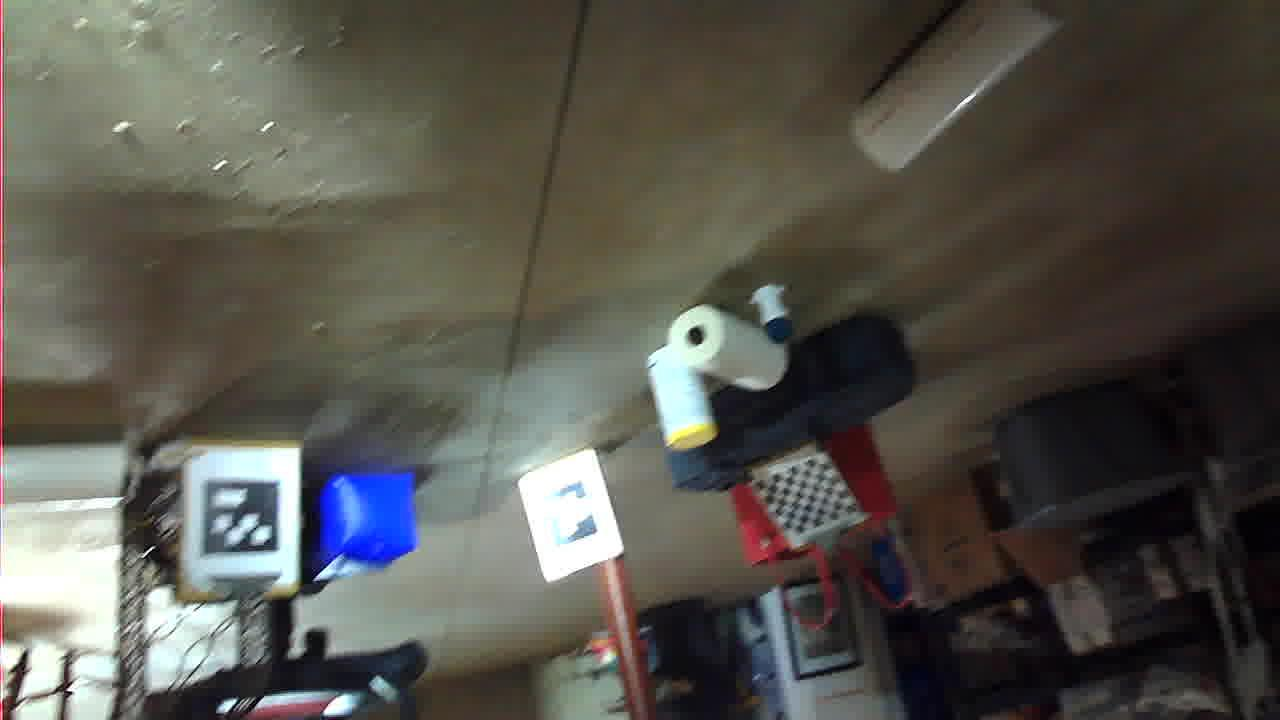coral: (219, 552, 428, 715)
